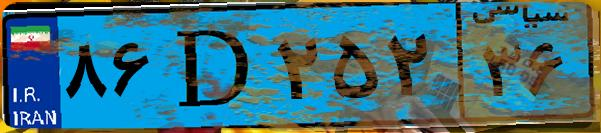2: (270, 28, 330, 110), (385, 28, 445, 110)
3: (475, 38, 525, 113)
5: (330, 28, 385, 110)
6: (525, 38, 570, 115), (110, 28, 158, 98)
8: (57, 26, 110, 100)
D: (158, 12, 270, 120)
